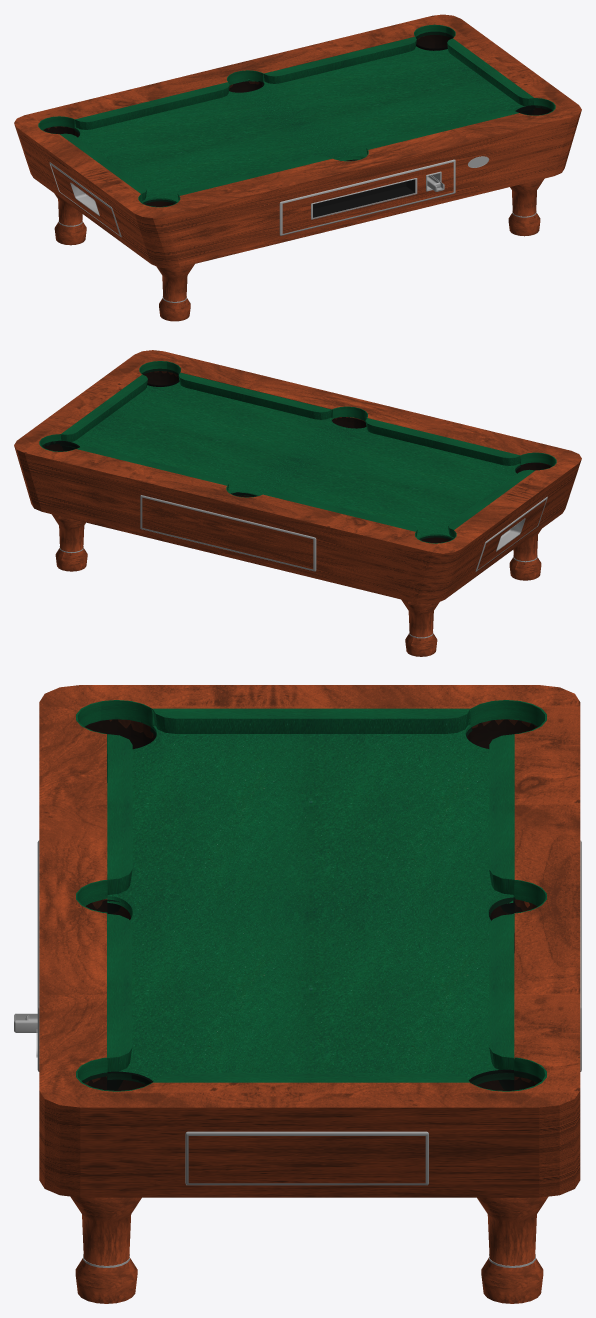
File: tableFbx.fbx
3 renders of one model, top to bottom at view 1: azimuth 30°, elevation 25°; view 2: azimuth 150°, elevation 25°; view 3: azimuth 270°, elevation 25°, orthographic. The views are drawn at different scales.
Parts seen in each view (by area): view 1: ChamferBox, Box001, ChamferBo4, ChamferBo5, Cylinder04, ChamferBo1, Box003, Cylinder07, ChamferBo6, Cylinder05, ChamferBo3, ChamferBo2 (+6 smaller); view 2: ChamferBox, Box001, ChamferBo3, ChamferBo2, Cylinder05, ChamferBo1, Cylinder06, ChamferBo7, Cylinder04, ChamferBo4, ChamferBo5, ChamferBo0 (+2 smaller); view 3: Box001, ChamferBox, ChamferBo0, Cylinder06, Cylinder07, ChamferBo3, ChamferBo4, ChamferBo2, ChamferBo5, ChamferBo1, ChamferBo8, Cylinder01 (+5 smaller).
Boxes of the visible parts, left/top/right/bottom form: ChamferBox: left=14, top=14, right=581, bottom=268; Box001: left=75, top=46, right=525, bottom=203; ChamferBo4: left=75, top=82, right=229, bottom=129; ChamferBo5: left=263, top=37, right=416, bottom=83; Cylinder04: left=156, top=264, right=194, bottom=321; ChamferBo1: left=447, top=38, right=533, bottom=105; Box003: left=313, top=179, right=415, bottom=217; Cylinder07: left=508, top=178, right=544, bottom=236; ChamferBo6: left=279, top=159, right=455, bottom=235; Cylinder05: left=54, top=193, right=86, bottom=245; ChamferBo3: left=177, top=156, right=331, bottom=200; ChamferBo2: left=366, top=110, right=518, bottom=151; ChamferBox: left=14, top=350, right=581, bottom=604; Box001: left=68, top=382, right=520, bottom=539; ChamferBo3: left=365, top=418, right=520, bottom=465; ChamferBo2: left=178, top=372, right=331, bottom=419; Cylinder05: left=401, top=599, right=439, bottom=656; ChamferBo1: left=61, top=374, right=147, bottom=441; Cylinder06: left=52, top=514, right=87, bottom=571; ChamferBo7: left=140, top=495, right=316, bottom=571; Cylinder04: left=509, top=529, right=541, bottom=580; ChamferBo4: left=263, top=492, right=417, bottom=536; ChamferBo5: left=77, top=446, right=228, bottom=489; ChamferBo0: left=448, top=469, right=535, bottom=537; Box001: left=107, top=725, right=514, bottom=1084; ChamferBox: left=39, top=685, right=580, bottom=1197; ChamferBo0: left=152, top=708, right=469, bottom=733; Cylinder06: left=477, top=1196, right=547, bottom=1303; Cylinder07: left=70, top=1196, right=141, bottom=1303; ChamferBo3: left=107, top=734, right=132, bottom=894; ChamferBo4: left=489, top=734, right=514, bottom=894; ChamferBo2: left=107, top=913, right=132, bottom=1071; ChamferBo5: left=489, top=914, right=514, bottom=1069; ChamferBo1: left=153, top=1073, right=469, bottom=1082; ChamferBo8: left=185, top=1131, right=428, bottom=1185; Cylinder01: left=76, top=700, right=154, bottom=753.
Bounding box in the file's own units: 111 × 28.29 × 62.79.
Materials: 5 (2 with a texture image).
